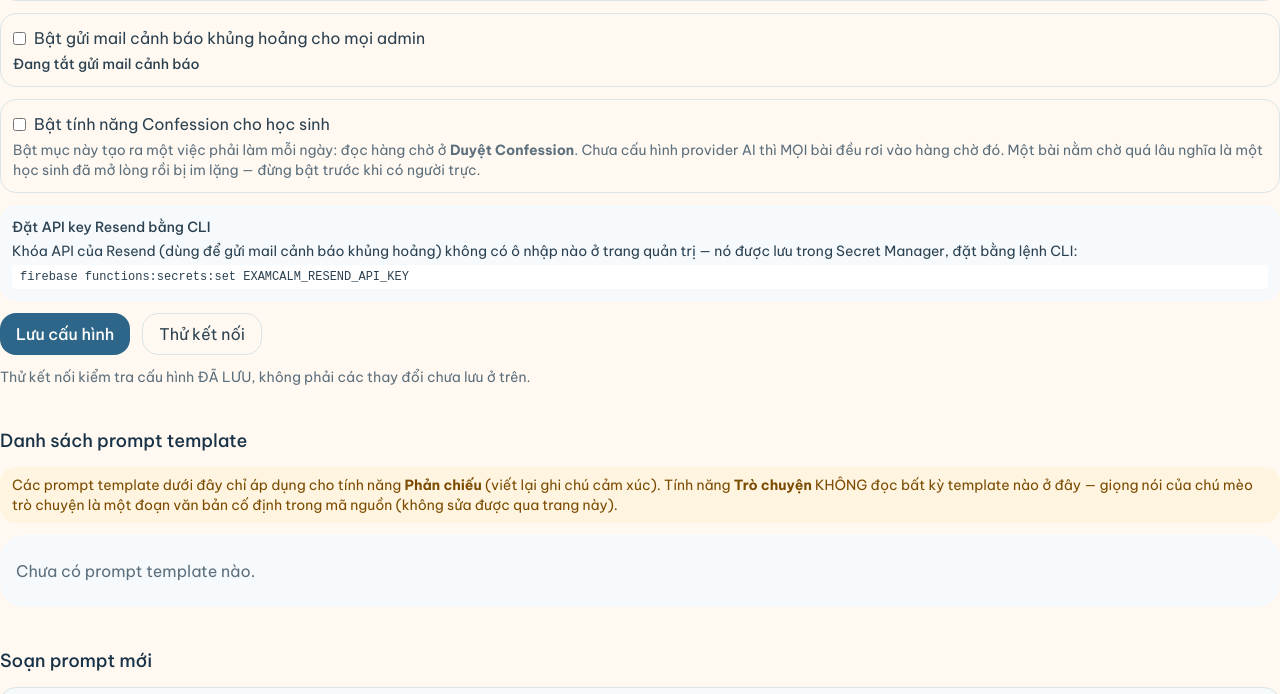
Test: AiConfigEditor — thông báo lưu nêu tên nhà cung cấp (Fix round 1, Finding 8) › lưu thành công -> thông báo nêu đúng providerLabel sẽ hiện trên màn hình đồng ý học sinh
(page scrolled)
Step 1. Click the button "Lưu cấu hình" → (65, 334), box [0,313,130,355]
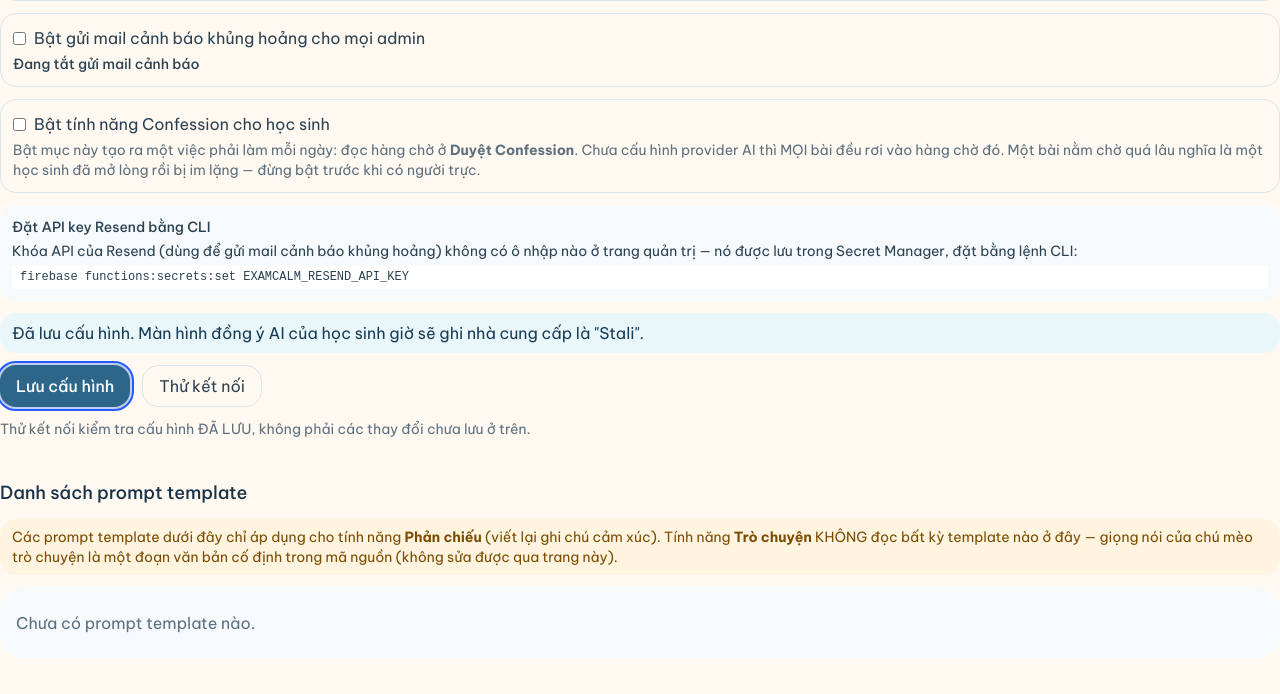
Expected: the message shows "stali", [12,323,644,343]
Expected: the message shows "Màn hình đồng ý", [12,323,644,343]
